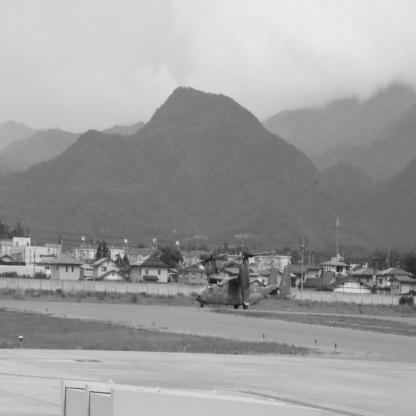V22: (183, 252, 293, 311)
